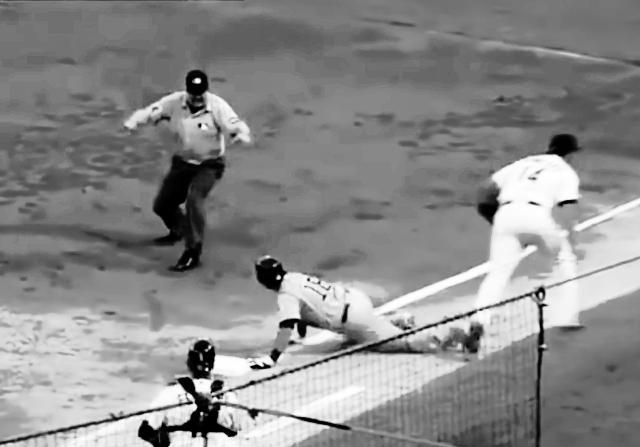jatuh: (244, 249, 486, 373)
